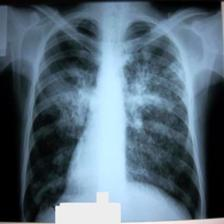tuberculosis: (15, 6, 207, 224)
